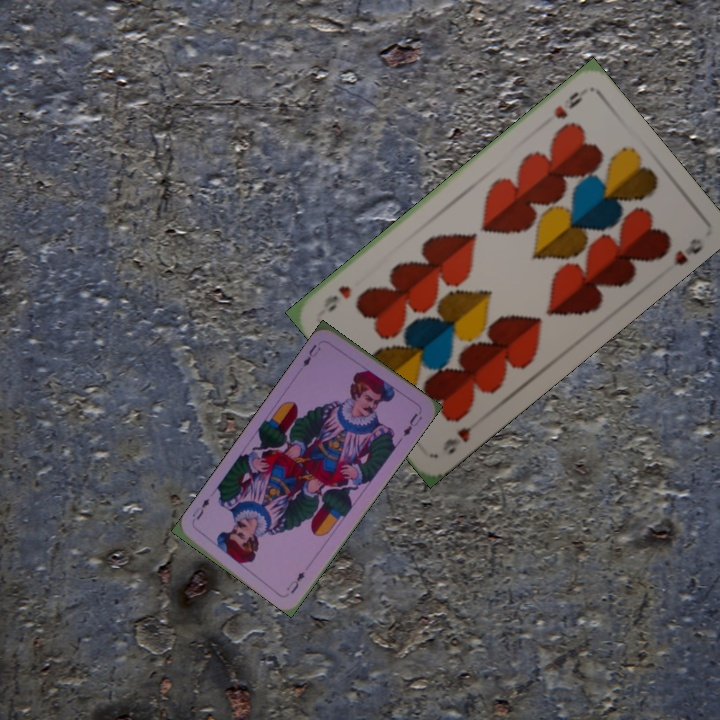EU: (299, 338, 325, 369), (282, 567, 308, 596)
H9: (438, 415, 484, 457), (549, 85, 588, 122)
